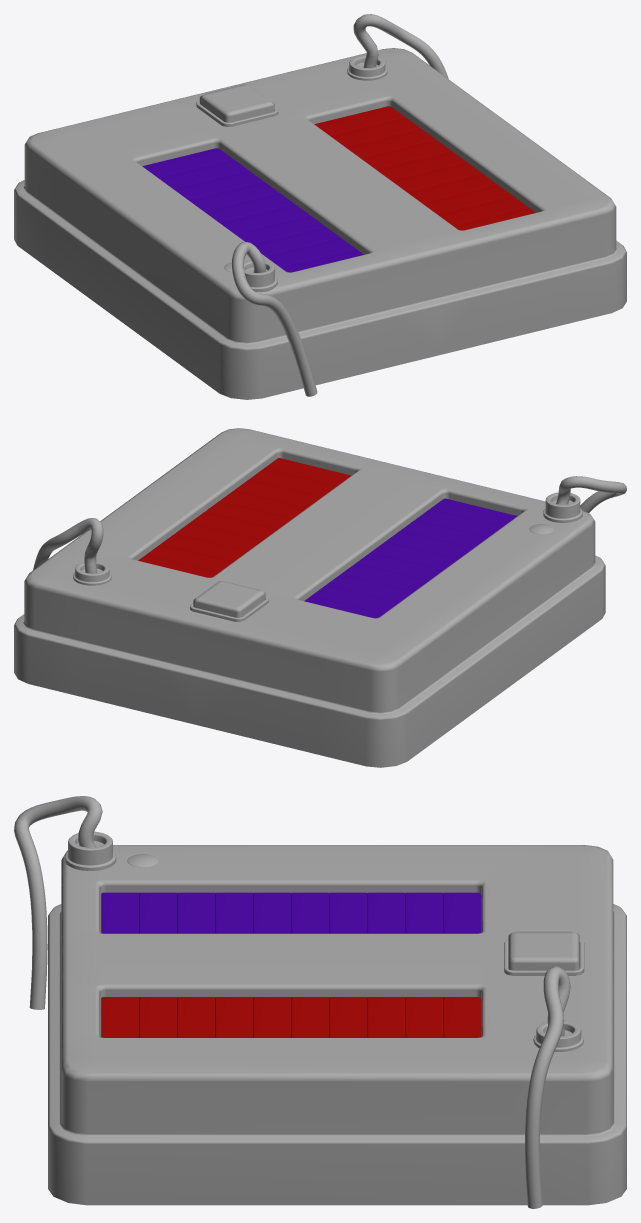
The model's file is Module_Fuel1.fbx.
The picture shows the model from 3 angles, top to bottom: view 1: azimuth 30°, elevation 25°; view 2: azimuth 150°, elevation 25°; view 3: azimuth 270°, elevation 25°; orthographic projection. The views are drawn at different scales.
Visible parts, largest first — view 1: Module_Key2, Wire6, Fuel_Block5 (×2), Fuel_Block1 (×2), Fuel_Block2 (×2), Fuel_Block3 (×2), Fuel_Block6 (×2), Fuel_Block4 (×2), Fuel_Block9 (×2), Fuel_Block7 (×2), Fuel_Block8 (×2), Key_Hash1 (+3 smaller); view 2: Module_Key2, Fuel_Block4 (×2), Fuel_Block5 (×2), Fuel_Block6 (×2), Fuel_Block2 (×2), Fuel_Block3 (×2), Fuel_Block7 (×2), Fuel_Block8 (×2), Fuel_Block10 (×2), Fuel_Block9 (×2), Key_Hash1, WireBase_3 (+3 smaller); view 3: Module_Key2, Wire6, Wire5, Fuel_Block2 (×2), Fuel_Block3 (×2), Fuel_Block4 (×2), Fuel_Block5 (×2), Fuel_Block6 (×2), Fuel_Block7 (×2), Fuel_Block8 (×2), Fuel_Block9 (×2), Fuel_Block10 (×2) (+4 smaller).
Part boxes in pixels (box(x1,y1,x2,y2)): Module_Key2: box(14, 48, 626, 399); Wire6: box(232, 242, 317, 396); Fuel_Block5 (×2): box(203, 150, 465, 222); Fuel_Block1 (×2): box(142, 106, 404, 177); Fuel_Block2 (×2): box(157, 117, 419, 188); Fuel_Block3 (×2): box(173, 128, 435, 199); Fuel_Block6 (×2): box(219, 162, 480, 233); Fuel_Block4 (×2): box(188, 139, 450, 210); Fuel_Block9 (×2): box(265, 195, 527, 266); Fuel_Block7 (×2): box(234, 173, 496, 243); Fuel_Block8 (×2): box(253, 184, 511, 255); Key_Hash1: box(199, 84, 274, 122); Module_Key2: box(14, 428, 605, 767); Fuel_Block4 (×2): box(175, 522, 428, 591); Fuel_Block5 (×2): box(190, 512, 443, 580); Fuel_Block6 (×2): box(205, 501, 457, 569); Fuel_Block2 (×2): box(146, 544, 398, 613); Fuel_Block3 (×2): box(161, 533, 413, 602); Fuel_Block7 (×2): box(220, 490, 472, 559); Fuel_Block8 (×2): box(235, 479, 487, 548); Fuel_Block10 (×2): box(264, 458, 517, 526); Fuel_Block9 (×2): box(249, 468, 502, 537); Key_Hash1: box(193, 581, 265, 617); WireBase_3: box(73, 492, 582, 585); Module_Key2: box(48, 845, 626, 1205); Wire6: box(14, 796, 102, 1009); Wire5: box(524, 966, 570, 1208); Fuel_Block2 (×2): box(405, 892, 443, 1037); Fuel_Block3 (×2): box(367, 892, 405, 1037); Fuel_Block4 (×2): box(329, 892, 367, 1037); Fuel_Block5 (×2): box(291, 892, 329, 1037); Fuel_Block6 (×2): box(253, 892, 291, 1037); Fuel_Block7 (×2): box(215, 892, 253, 1037); Fuel_Block8 (×2): box(177, 892, 215, 1037); Fuel_Block9 (×2): box(139, 892, 177, 1037); Fuel_Block10 (×2): box(101, 892, 139, 1037).
Size of the model in its own units: 23.66 by 8.82 by 24.18.
